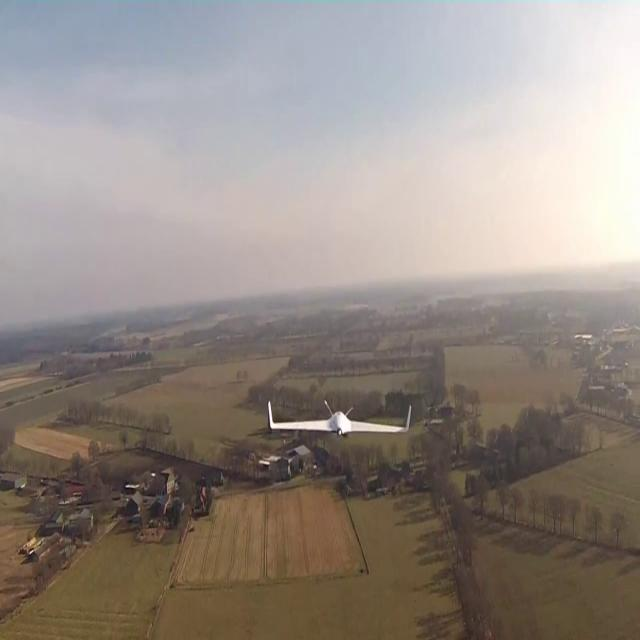iha: (267, 400, 412, 439)
